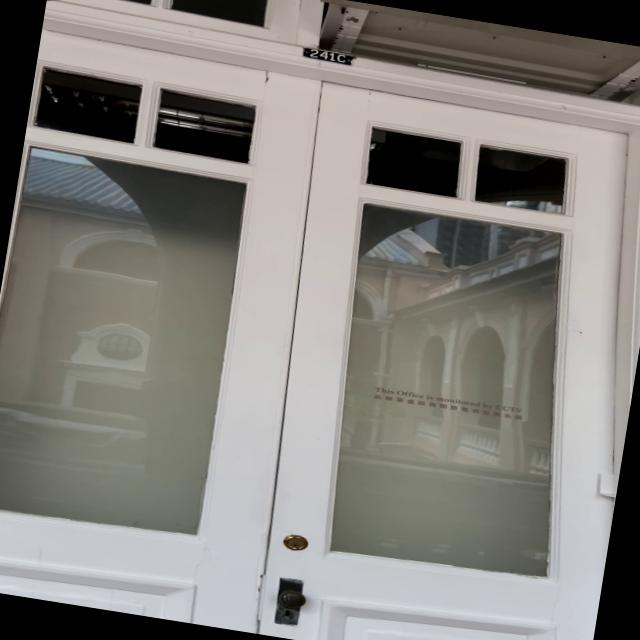room241c: (297, 43, 359, 70)
